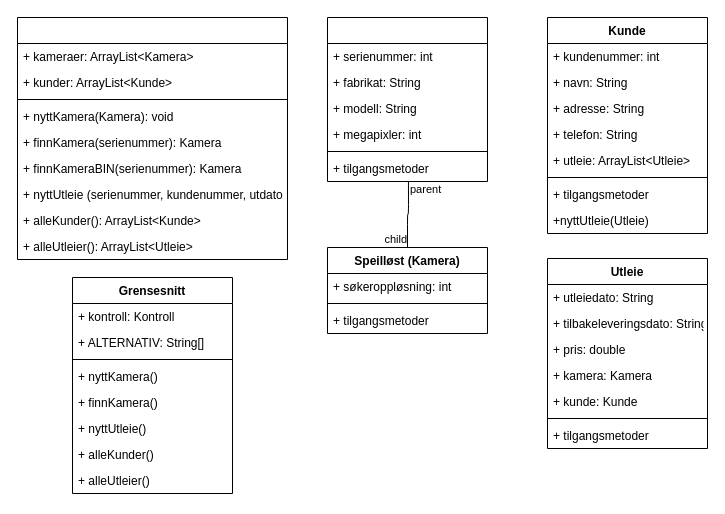
This 725x514 diagram has some shape labels left out. Here are the shapes that lost their labels. From the top down, the box of each, then its label:
(326, 16, 488, 182): Kamera
(16, 16, 288, 260): Kontroll
